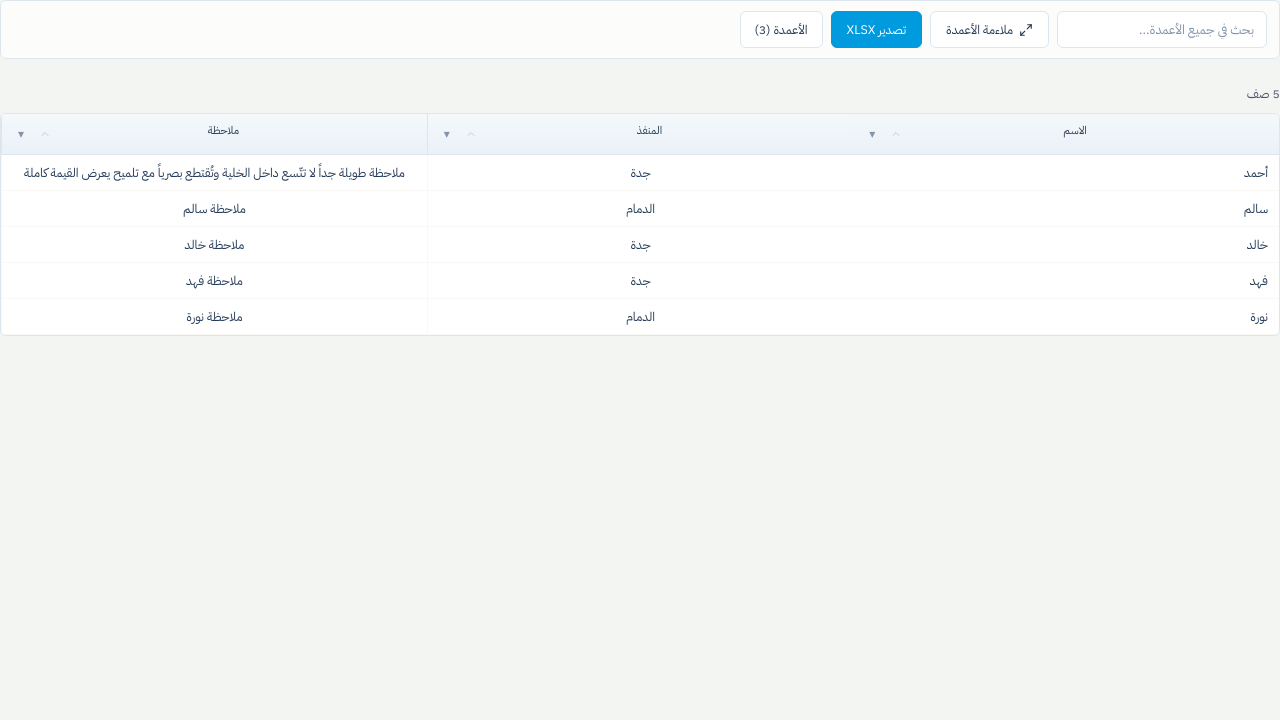
Scenario: DataTable — RTL render + interactions (characterization) › hides a column via the column-visibility picker
This screenshot has width=1280, height=720.
Check: the text "ملاحظة طويلة جداً لا تتّسع داخل الخلية وتُقتطع بصرياً مع تلميح يعرض القيمة كاملة" is shown, box [24,163,405,182]
/^الأعمدة/ targets the picker button ("الأعمدة (3)"), not the "ملاءمة الأعمدة" autofit button.
Click the button "الأعمدة (3)" at [781, 30], box [740,11,822,48]
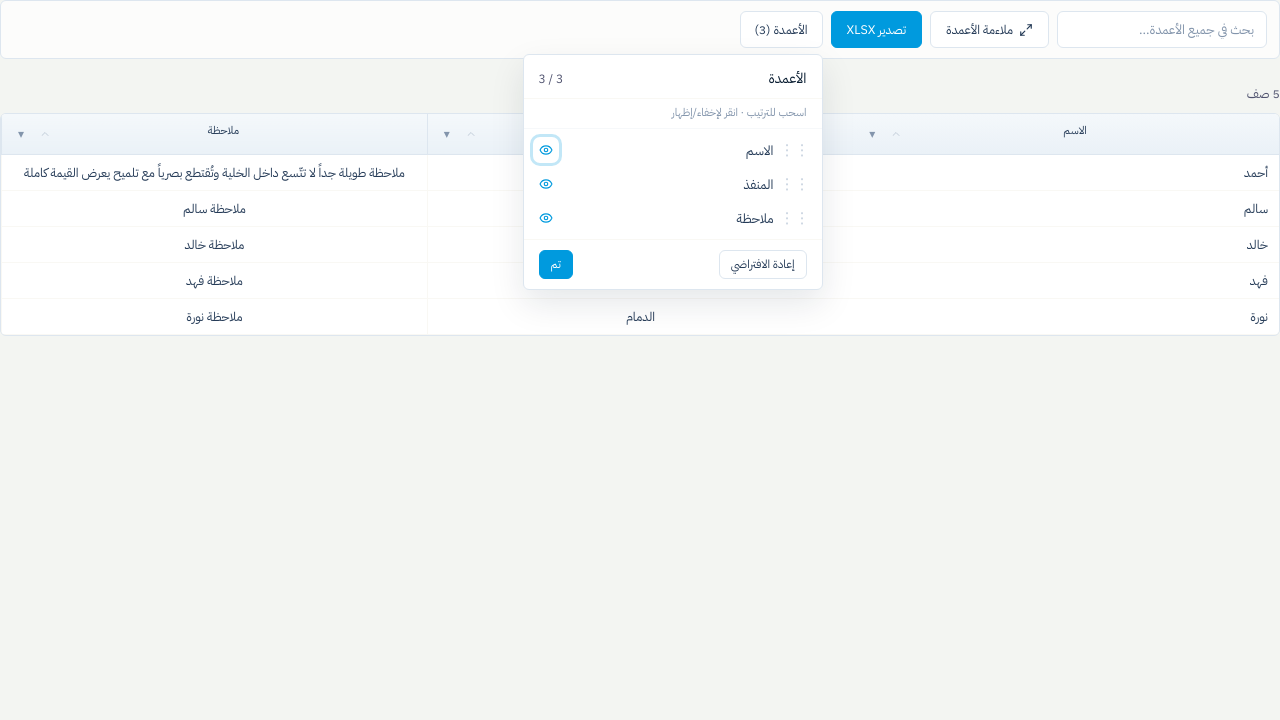
Check: the number of buttons titled "إخفاء" is 3
Click the 3rd button titled "إخفاء" at [546, 218], box [536,208,556,228]
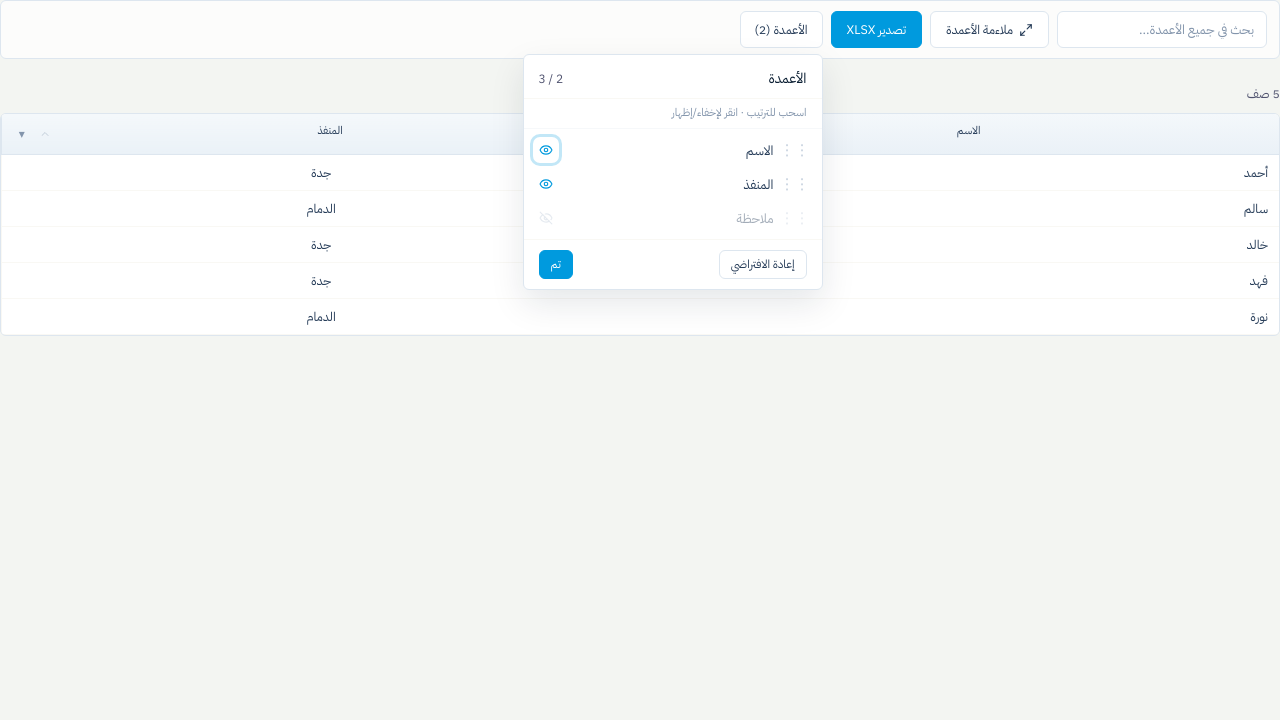
Check: the text "أحمد" is shown, box [1244,163,1268,182]
Check: the text "ملاحظة طويلة جداً لا تتّسع داخل الخلية وتُقتطع بصرياً مع تلميح يعرض القيمة كاملة" is gone
